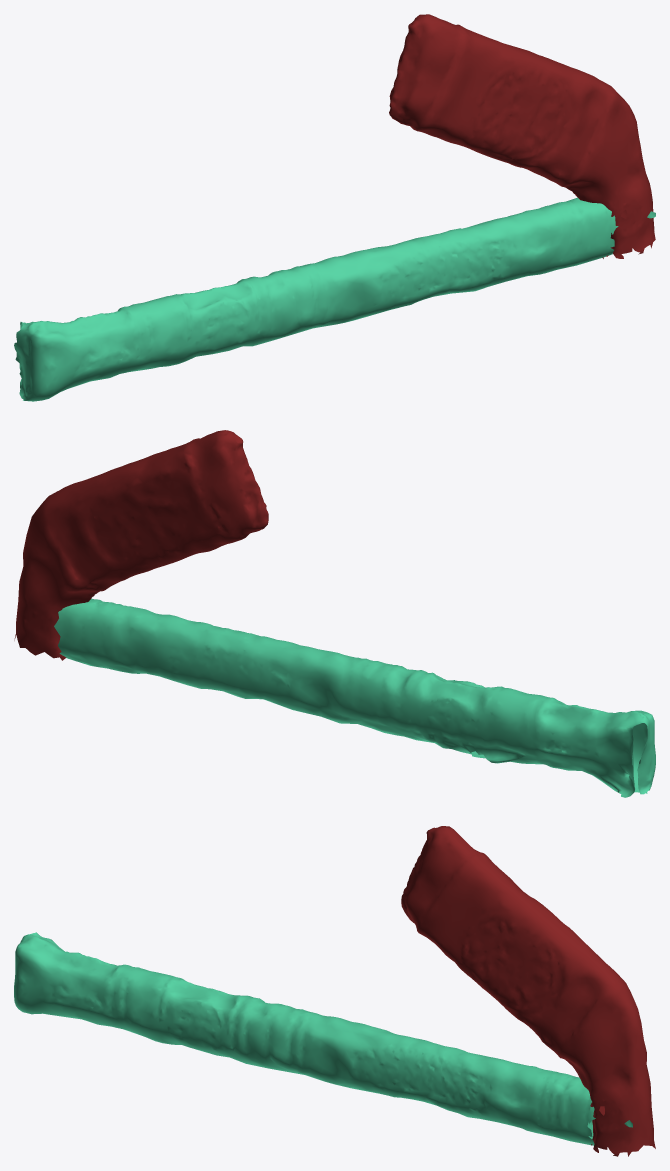
File: object_deformed_0.obj
3 renders of one model, top to bottom at view 1: azimuth 30°, elevation 25°; view 2: azimuth 150°, elevation 25°; view 3: azimuth 330°, elevation 25°, orthographic.
Size of the model in its own units: 0.4464 by 0.1858 by 0.0477.
